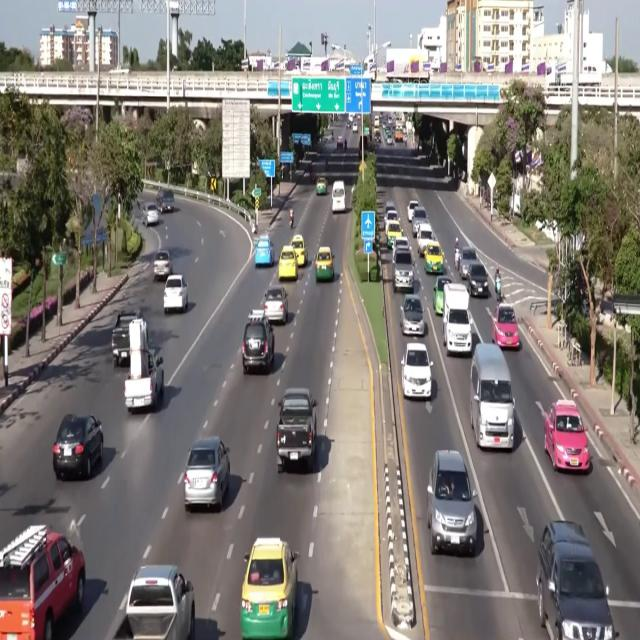car: (0, 525, 85, 639), (536, 521, 617, 639), (241, 538, 298, 639), (428, 450, 477, 555), (183, 437, 230, 511), (544, 400, 590, 471), (53, 415, 103, 479), (242, 310, 274, 374), (401, 343, 432, 398), (492, 304, 520, 349), (400, 294, 425, 335), (393, 247, 414, 293), (264, 286, 287, 324), (164, 275, 187, 312), (467, 262, 489, 296), (433, 276, 452, 315), (254, 235, 274, 268), (315, 247, 334, 281), (278, 246, 297, 280), (423, 241, 443, 273), (459, 247, 478, 279), (154, 250, 172, 280), (291, 234, 307, 267), (417, 224, 434, 255), (412, 207, 428, 237), (332, 181, 346, 213), (386, 221, 402, 248), (156, 190, 174, 213), (393, 236, 410, 258), (143, 203, 159, 226), (385, 209, 398, 231), (407, 200, 419, 222), (316, 178, 328, 195), (385, 200, 395, 218), (336, 135, 344, 149), (352, 122, 357, 133)
scooty: (495, 278, 501, 302), (495, 280, 501, 302)
traffic signal: (210, 177, 216, 192)
truck: (114, 566, 195, 639), (125, 319, 164, 412), (276, 388, 316, 472), (443, 283, 472, 355), (111, 311, 142, 366)
